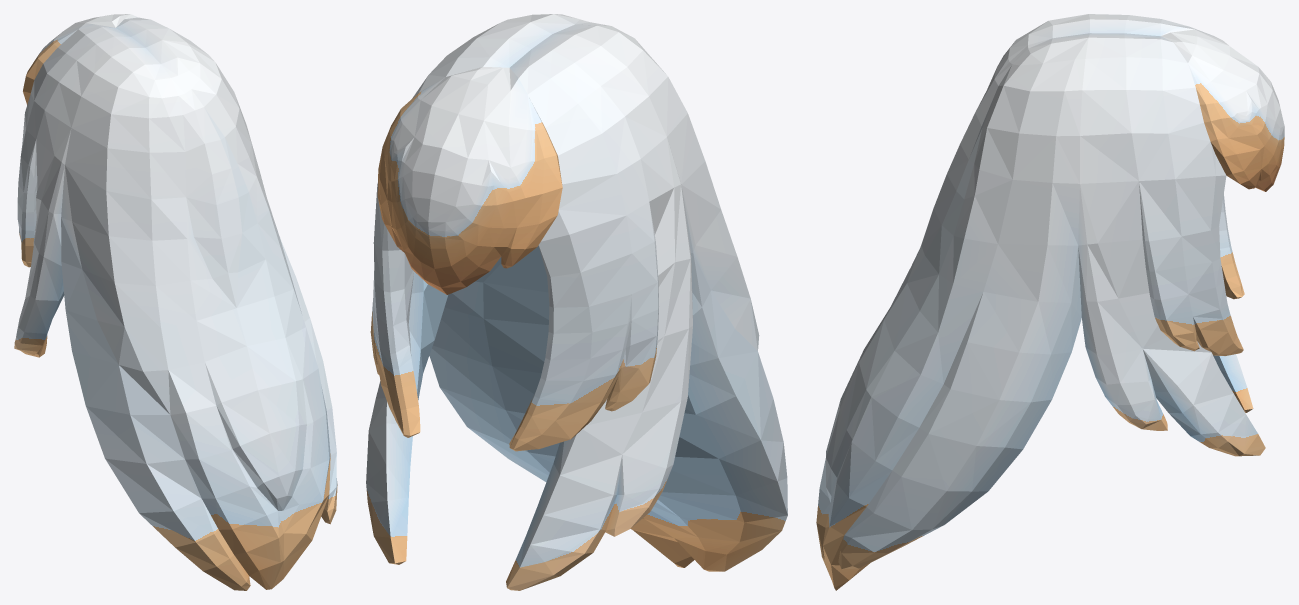
The model's file is CharSkyKid_Hair_AP27FluffyManatee.glb.
3 views of the same model, side by side, from view 1: azimuth 30°, elevation 25°; view 2: azimuth 150°, elevation 25°; view 3: azimuth 270°, elevation 25° (orthographic). The views are drawn at different scales.
Visible parts, largest first — view 1: CharSkyKid_Hair_AP27FluffyManatee; view 2: CharSkyKid_Hair_AP27FluffyManatee; view 3: CharSkyKid_Hair_AP27FluffyManatee.
Boxes of the visible parts, <box> form: CharSkyKid_Hair_AP27FluffyManatee: <box>14,14,337,590</box>; CharSkyKid_Hair_AP27FluffyManatee: <box>366,14,787,590</box>; CharSkyKid_Hair_AP27FluffyManatee: <box>816,14,1284,590</box>.
Bounding box in the file's own units: 3.06 × 6.07 × 4.66.
Materials: 1 (1 with a texture image).
